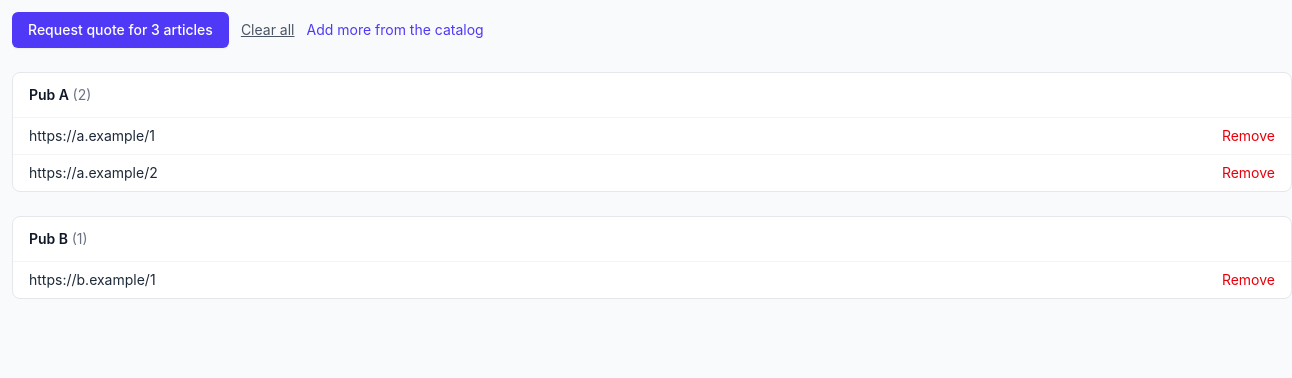
it: ExportReview › shows the API error and keeps the selection
Click the button "Request quote for 3 articles".
click(120, 30)  # box [12,12,229,48]
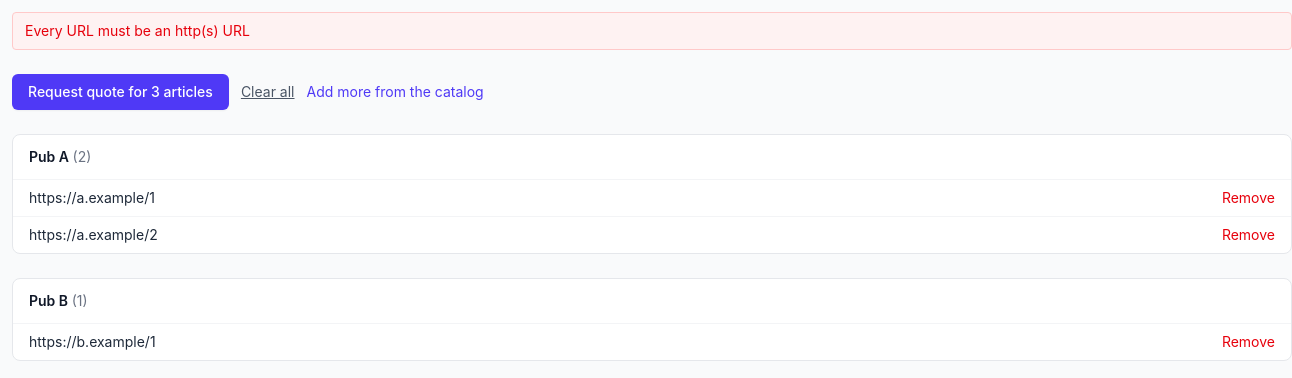
Result: the message reads "Every URL must be an http(s) URL" at [25,22,250,39]
